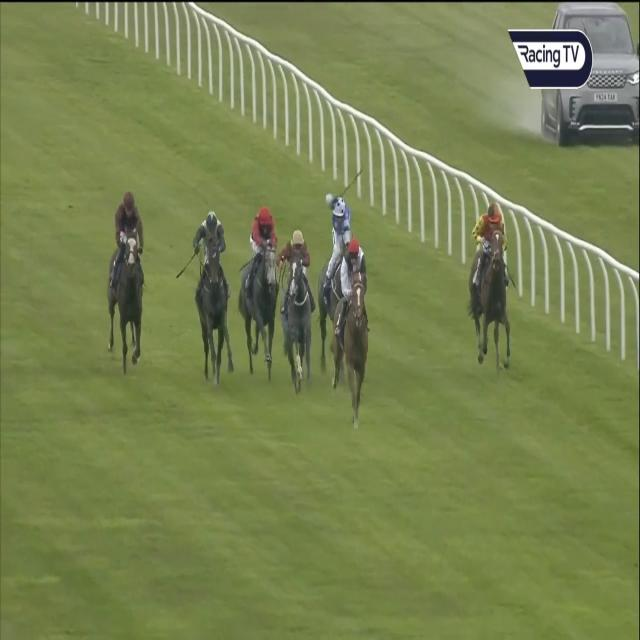horses-racing: (469, 194, 522, 372), (188, 206, 235, 380), (104, 188, 148, 370), (334, 237, 373, 432), (272, 227, 315, 392), (239, 202, 279, 375), (319, 178, 352, 306)
